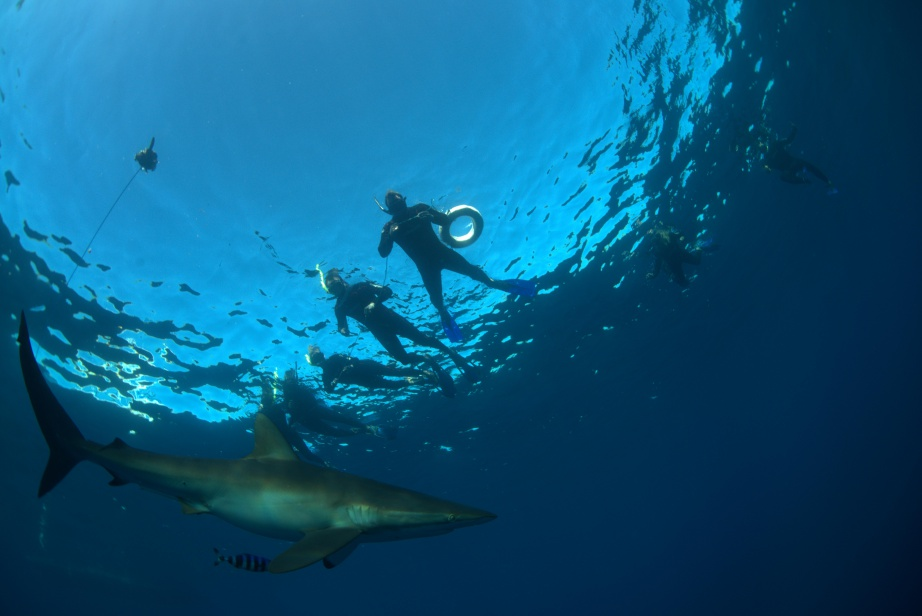Sedoso: (1, 300, 517, 582)
